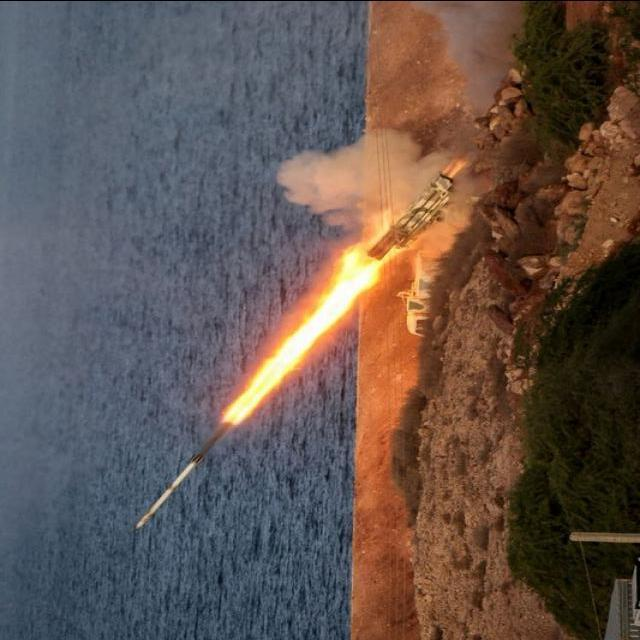missile: (126, 424, 242, 529)
